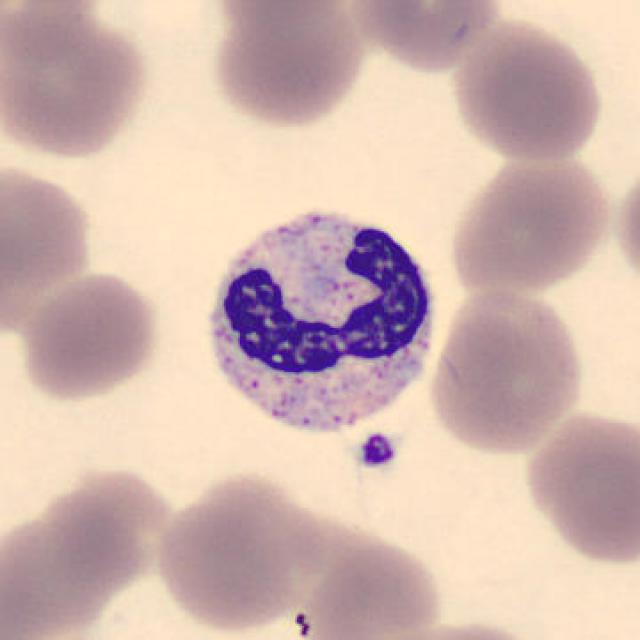Neutrophil: (186, 189, 452, 460)
Platelets: (354, 430, 402, 474)
RBC: (5, 462, 187, 636), (151, 469, 327, 636), (425, 286, 588, 458), (444, 146, 617, 300), (0, 3, 155, 164), (444, 14, 608, 166), (206, 2, 370, 134), (11, 268, 165, 405), (518, 403, 638, 568), (0, 154, 100, 346), (290, 534, 448, 640), (345, 0, 507, 74), (0, 0, 103, 69), (204, 0, 361, 37), (354, 615, 556, 640), (610, 155, 640, 295)
